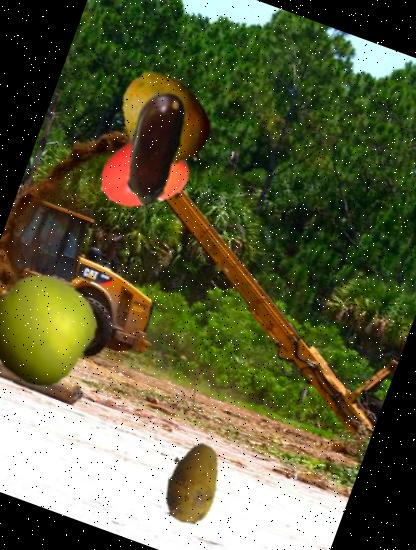Apple: (0, 258, 116, 403)
Eggplant: (73, 71, 236, 234)
Kaki: (84, 112, 200, 229)
Papaya: (102, 54, 230, 181)
Potato: (140, 430, 244, 536)
